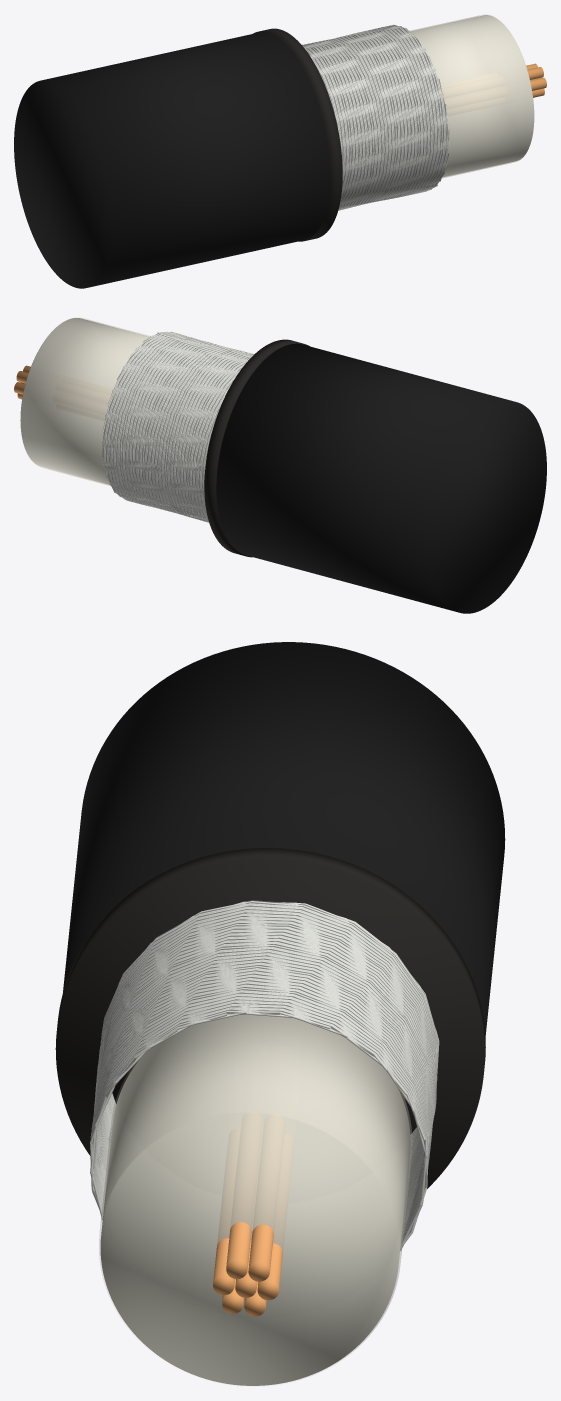
The picture shows the model from 3 angles, top to bottom: view 1: azimuth 30°, elevation 25°; view 2: azimuth 150°, elevation 25°; view 3: azimuth 270°, elevation 25°; orthographic projection. The views are drawn at different scales.
Visible parts, largest first — view 1: matte black pvc jacket body, smooth dielectric skin, gas injected foam dielectric, jacket cut lip, braid left hand carrier 17, braid left hand carrier 20, braid left hand carrier 14, braid left hand carrier 02, braid left hand carrier 18, braid left hand carrier 15, braid left hand carrier 11, braid left hand carrier 05 (+32 smaller); view 2: matte black pvc jacket body, smooth dielectric skin, gas injected foam dielectric, jacket cut lip, braid left hand carrier 11, braid left hand carrier 14, braid left hand carrier 08, braid left hand carrier 17, braid left hand carrier 12, braid left hand carrier 15, braid left hand carrier 09, braid left hand carrier 05 (+32 smaller); view 3: gas injected foam dielectric, matte black pvc jacket body, jacket cut lip, smooth dielectric skin, braid left hand carrier 03, braid left hand carrier 20, braid left hand carrier 18, braid left hand carrier 06, braid left hand carrier 15, braid left hand carrier 09, braid left hand carrier 12, braid left hand carrier 02 (+31 smaller).
Boxes of the visible parts, <box> form: matte black pvc jacket body: <box>14,32,330,288</box>; smooth dielectric skin: <box>409,14,533,178</box>; gas injected foam dielectric: <box>410,15,534,177</box>; jacket cut lip: <box>253,28,342,241</box>; braid left hand carrier 17: <box>303,25,439,209</box>; braid left hand carrier 20: <box>302,24,442,208</box>; braid left hand carrier 14: <box>305,26,435,210</box>; braid left hand carrier 02: <box>304,29,445,208</box>; braid left hand carrier 18: <box>303,25,440,206</box>; braid left hand carrier 15: <box>304,26,436,209</box>; braid left hand carrier 11: <box>311,27,432,210</box>; braid left hand carrier 05: <box>308,28,448,207</box>; matte black pvc jacket body: <box>216,343,546,613</box>; smooth dielectric skin: <box>21,317,150,486</box>; gas injected foam dielectric: <box>20,318,149,484</box>; jacket cut lip: <box>204,339,309,557</box>; braid left hand carrier 11: <box>107,335,253,518</box>; braid left hand carrier 14: <box>104,334,250,518</box>; braid left hand carrier 08: <box>111,335,253,519</box>; braid left hand carrier 17: <box>102,333,248,521</box>; braid left hand carrier 12: <box>106,334,251,518</box>; braid left hand carrier 15: <box>103,333,249,518</box>; braid left hand carrier 09: <box>110,335,246,518</box>; braid left hand carrier 05: <box>114,336,250,520</box>; gas injected foam dielectric: <box>100,1014,410,1385</box>; matte black pvc jacket body: <box>63,642,505,1035</box>; jacket cut lip: <box>55,848,485,1188</box>; smooth dielectric skin: <box>99,1014,412,1386</box>; braid left hand carrier 03: <box>90,904,437,1200</box>; braid left hand carrier 20: <box>91,901,438,1196</box>; braid left hand carrier 18: <box>91,902,438,1192</box>; braid left hand carrier 06: <box>90,907,436,1235</box>; braid left hand carrier 15: <box>92,918,439,1233</box>; braid left hand carrier 09: <box>93,911,436,1239</box>; braid left hand carrier 12: <box>93,914,436,1242</box>; braid left hand carrier 02: <box>90,903,437,1198</box>.
Bounding box in the file's own units: 6.56 × 2.6 × 2.72.
